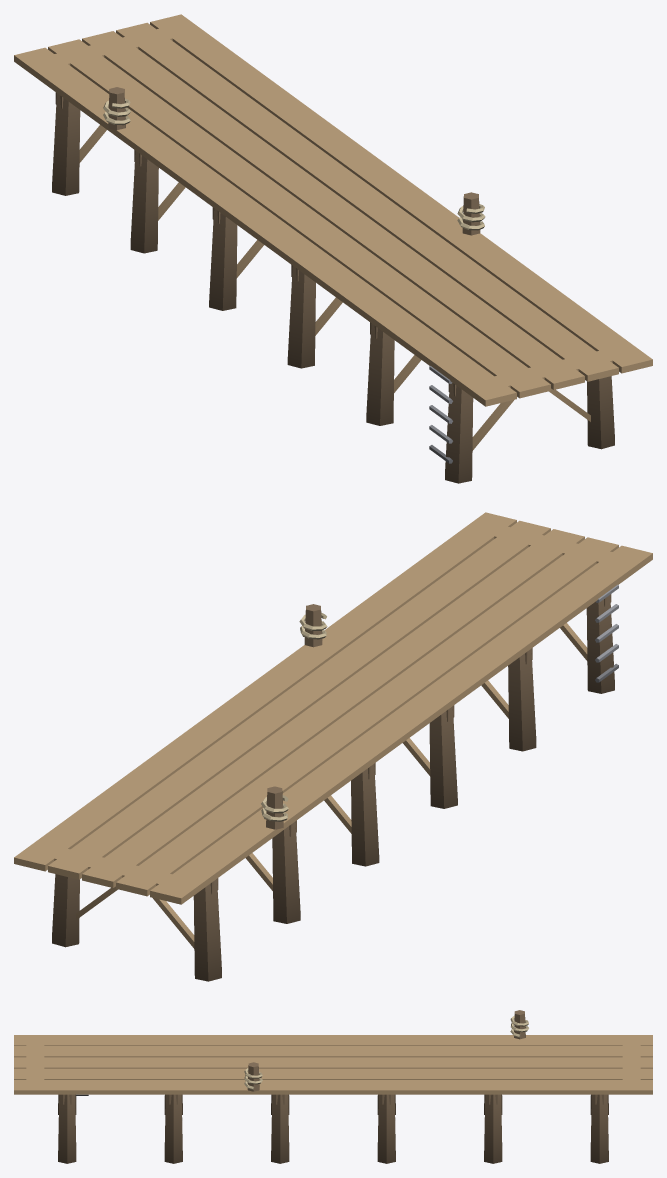
File: berk_dock.glb
The picture shows the model from 3 angles, top to bottom: view 1: azimuth 30°, elevation 25°; view 2: azimuth 150°, elevation 25°; view 3: azimuth 270°, elevation 25°; orthographic projection. The views are drawn at different scales.
Parts seen in each view (by area): view 1: berk_dock; view 2: berk_dock; view 3: berk_dock.
Part boxes in pixels (x1=…): berk_dock: x1=14, y1=14, x2=652, y2=483; berk_dock: x1=14, y1=512, x2=652, y2=981; berk_dock: x1=14, y1=1010, x2=652, y2=1163.
Size of the model in its own units: 2.68 by 2.03 by 12.
